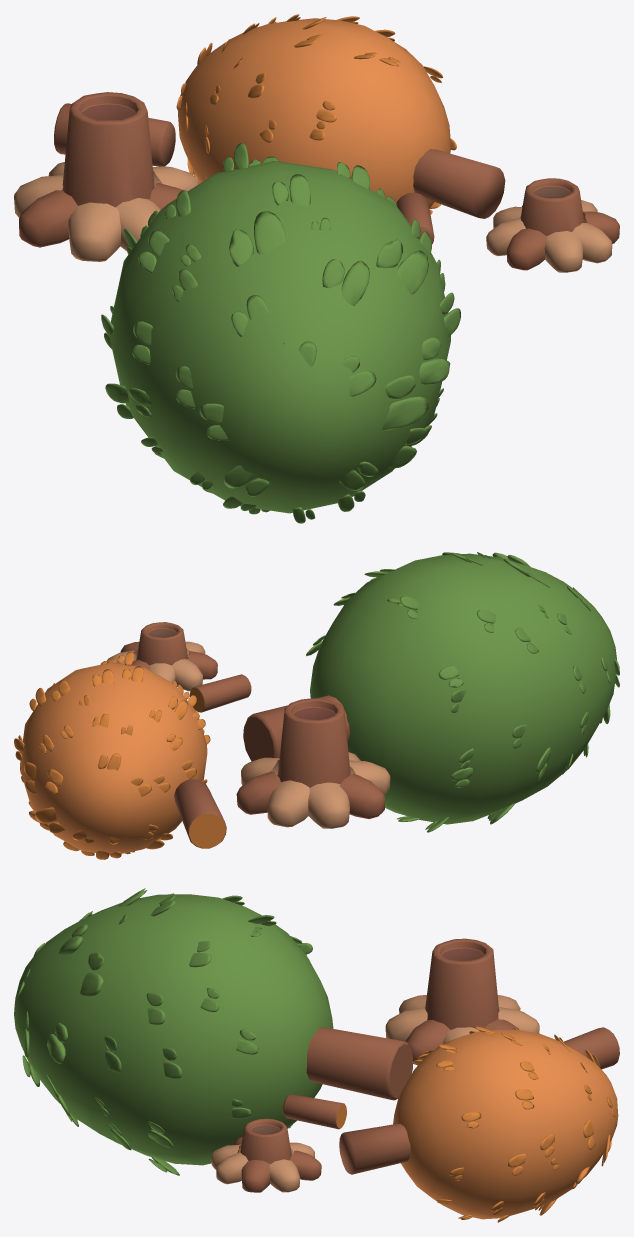
Rendered from yklmsagaclar.fbx.
The picture shows the model from 3 angles, top to bottom: view 1: azimuth 30°, elevation 25°; view 2: azimuth 150°, elevation 25°; view 3: azimuth 270°, elevation 25°; orthographic projection. The views are drawn at different scales.
Parts seen in each view (by area): view 1: ağaç.001, ağaç.002, ağaç.006, ağaç.008, ağaç.004, ağaç.003; view 2: ağaç.001, ağaç.002, ağaç.006, ağaç.008, ağaç.004, ağaç.003; view 3: ağaç.001, ağaç.002, ağaç.006, ağaç.008, ağaç.003, ağaç.004.
Part boxes in pixels (x1,y1,x2,y2): ağaç.001: (101,143,460,523); ağaç.002: (176,14,505,218); ağaç.006: (14,92,199,261); ağaç.008: (486,178,619,272); ağaç.004: (54,103,175,166); ağaç.003: (396,192,434,244); ağaç.001: (243,552,619,832); ağaç.002: (14,652,210,859); ağaç.006: (236,698,390,828); ağaç.008: (106,622,217,691); ağaç.004: (174,779,226,848); ağaç.003: (189,674,251,712); ağaç.001: (14,888,413,1175); ağaç.002: (339,1026,618,1222); ağaç.006: (385,938,539,1065); ağaç.008: (211,1118,321,1192); ağaç.003: (283,1094,346,1129); ağaç.004: (563,1027,619,1069).
Size of the model in its own units: 235 by 137 by 291.
